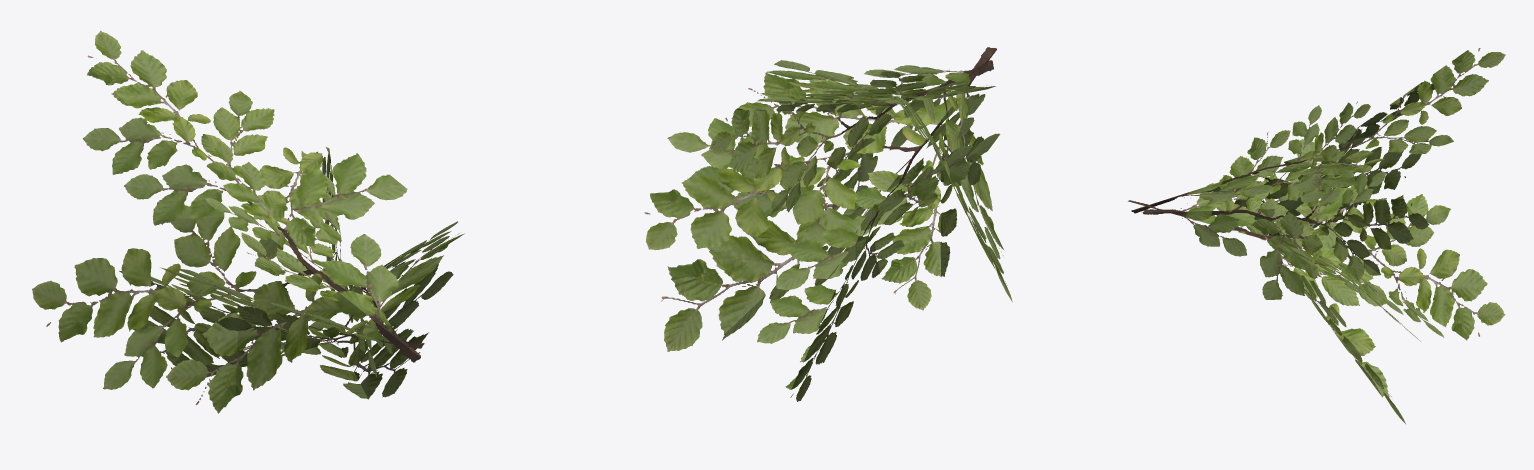
Rendered from tree mini fg 4.fbx.
3 views of the same model, side by side, from view 1: azimuth 30°, elevation 25°; view 2: azimuth 150°, elevation 25°; view 3: azimuth 270°, elevation 25° (orthographic). The views are drawn at different scales.
Visible parts, largest first — view 1: Cylinder_013; view 2: Cylinder_013; view 3: Cylinder_013.
Boxes of the visible parts, x1,y1,x2,y2 form: Cylinder_013: (32, 30, 464, 413); Cylinder_013: (644, 47, 1012, 401); Cylinder_013: (1128, 48, 1505, 423).
Size of the model in its own units: 1.93 by 1.57 by 1.84.
